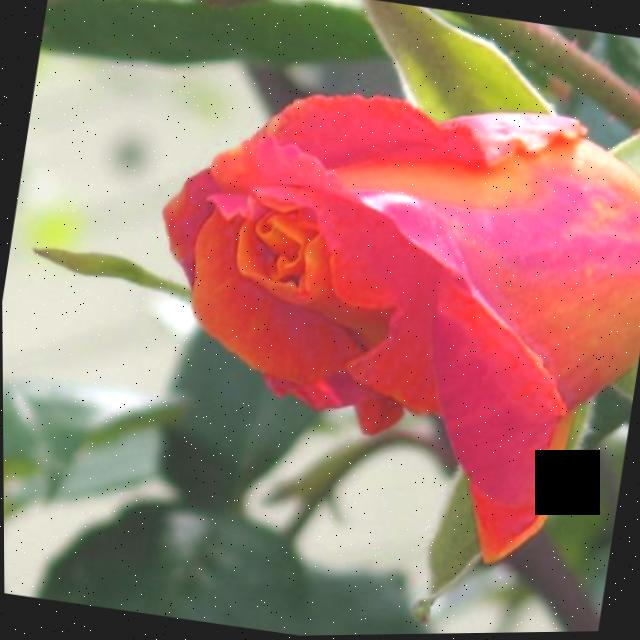rose: (89, 0, 640, 587)
